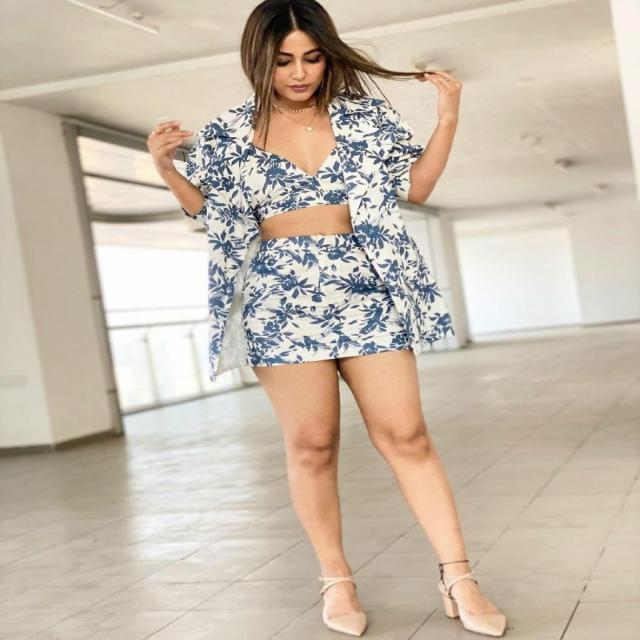female-dress: (164, 101, 460, 363)
